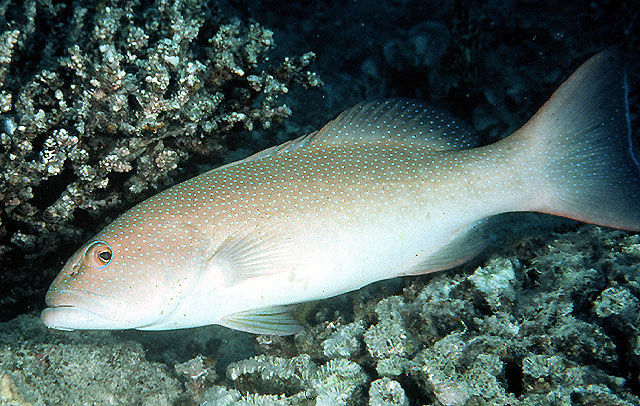fish: (41, 49, 640, 337)
